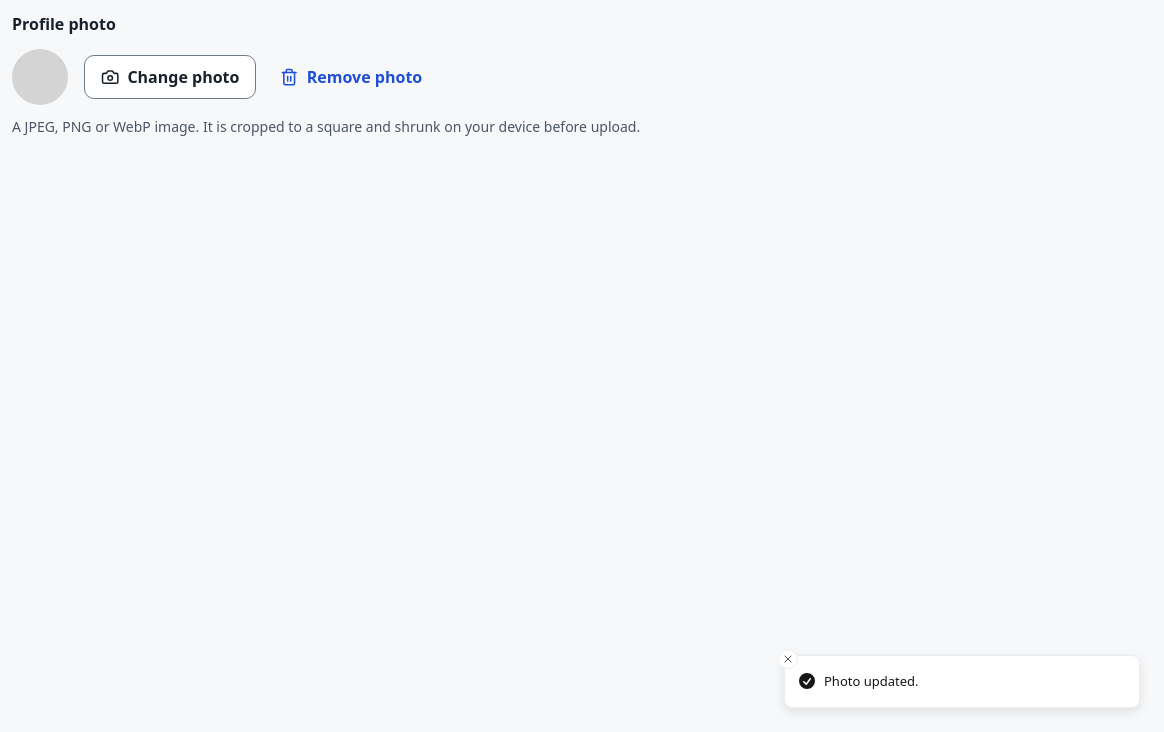
Test: profile photo › uploads the prepared photo and offers to remove it
Earlier steps of the test are not shown.
Expected: the text "Photo updated." is shown, [824, 672, 918, 691]
Click the button "Remove photo". click: point(351, 77)
box: [264, 55, 438, 99]
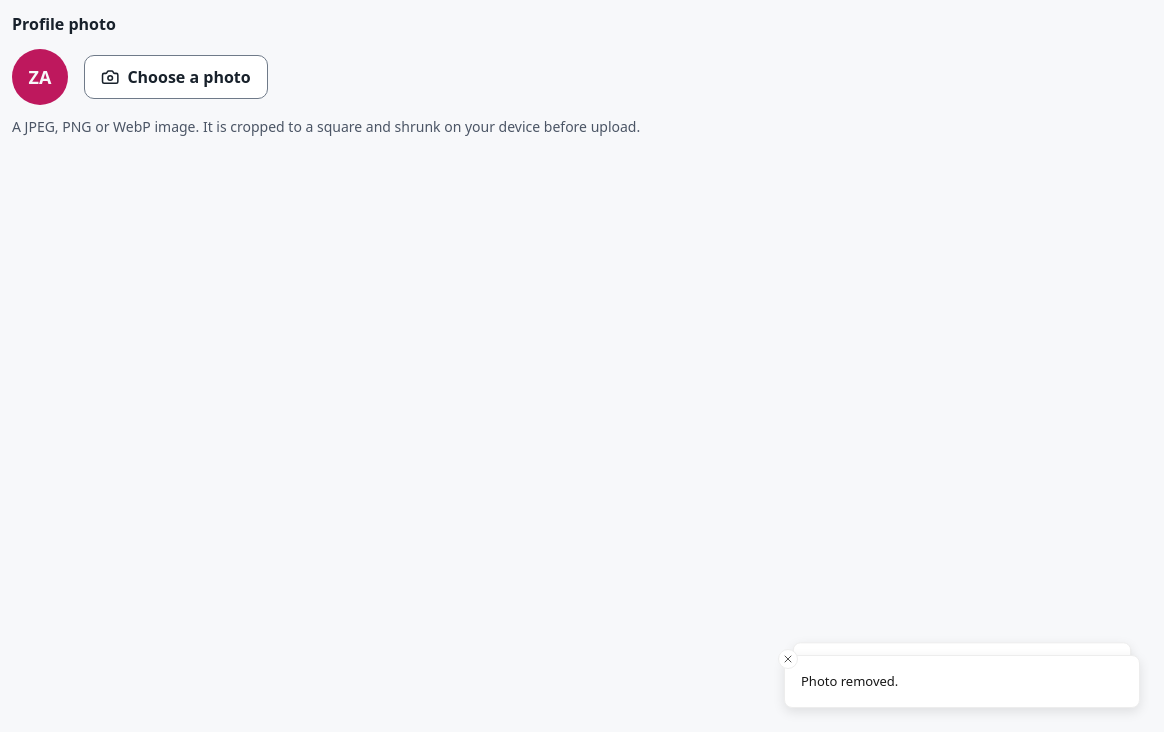
Result: the text "Photo removed." is shown at [801, 672, 898, 691]
Result: the button "Choose a photo" is shown at [84, 55, 268, 99]
